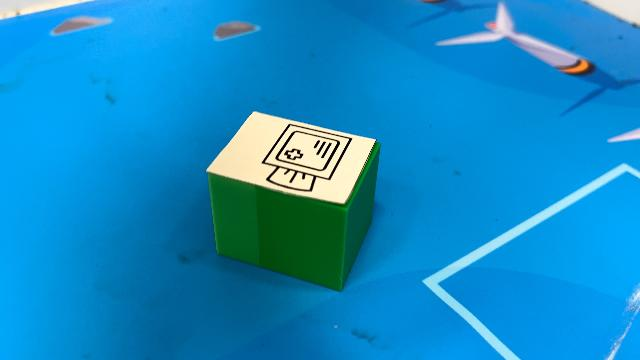napkin: (204, 108, 383, 292)
